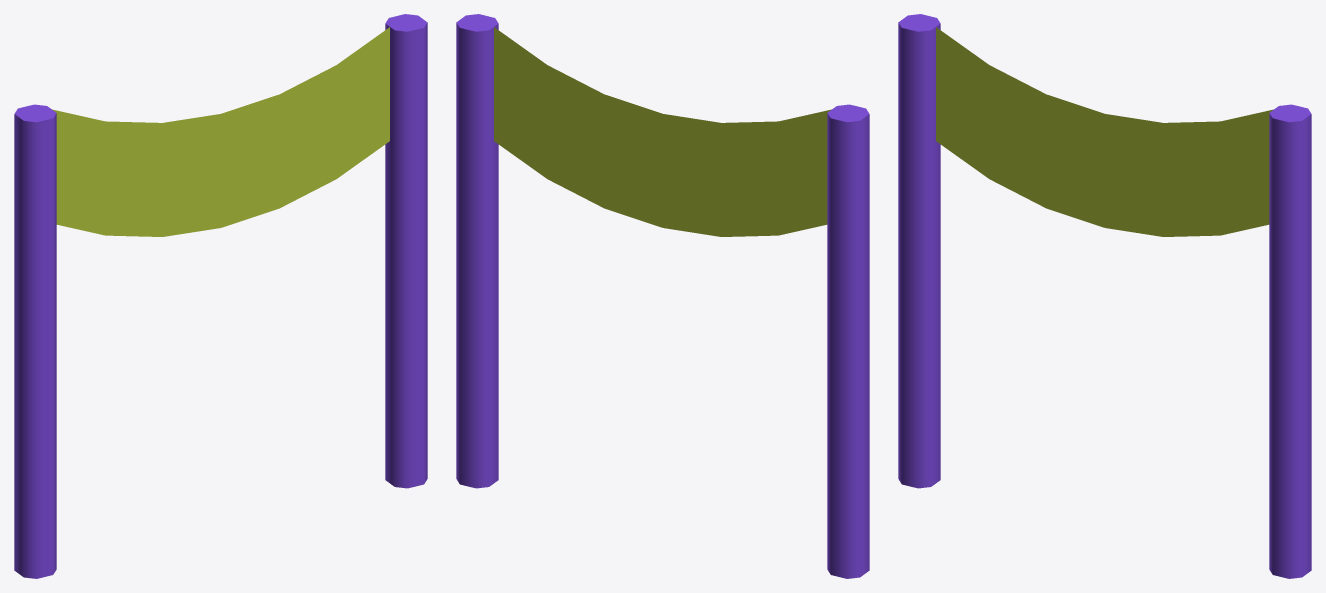
The model's file is banner_hanging_high.dae.
3 renders of one model, left to right at view 1: azimuth 30°, elevation 25°; view 2: azimuth 150°, elevation 25°; view 3: azimuth 330°, elevation 25°, orthographic.
Parts seen in each view (by area): view 1: banner_hanging_high; view 2: banner_hanging_high; view 3: banner_hanging_high.
Part boxes in pixels (x1,y1,x2,y2): banner_hanging_high: [14, 14, 427, 578]; banner_hanging_high: [456, 14, 869, 578]; banner_hanging_high: [898, 14, 1311, 578].
Size of the model in its own units: 0.925 by 0.075 by 1.
